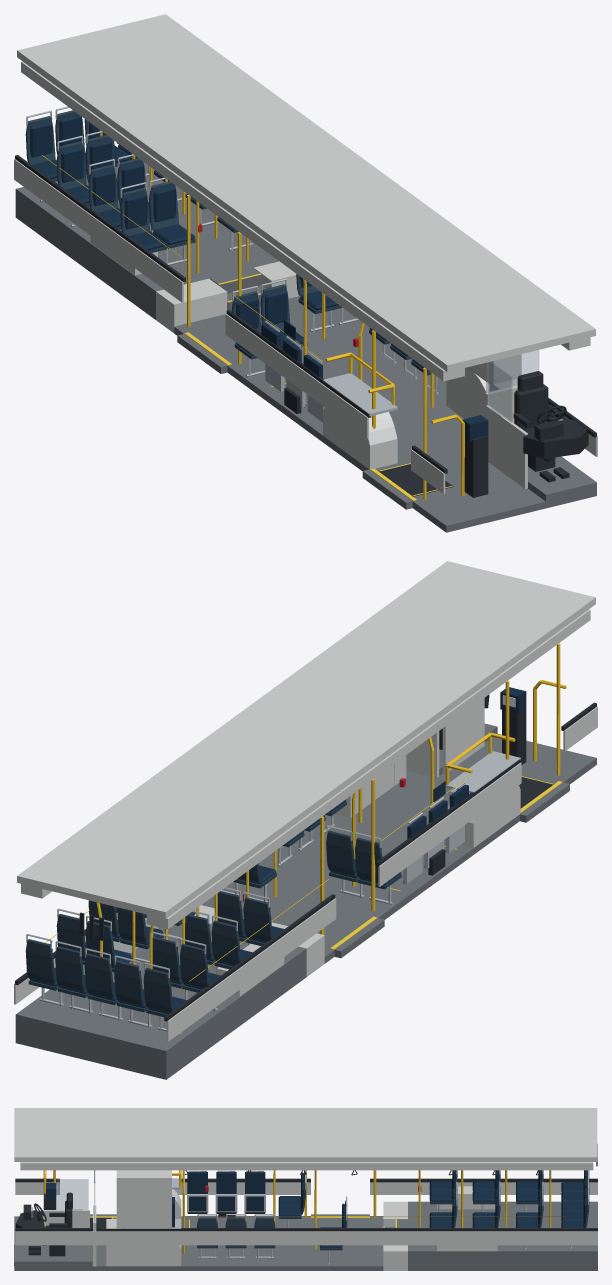
File: city-bus-12m-interior-v2-runtime.lod0.glb
3 views of the same model, one above another, from view 1: azimuth 30°, elevation 25°; view 2: azimuth 150°, elevation 25°; view 3: azimuth 270°, elevation 25° (orthographic). The views are drawn at different scales.
Parts seen in each view (by area): view 1: interior-batch-panel, interior-batch-floor, interior-batch-seat, interior-batch-rubber, interior-batch-seat-shell, interior-batch-rail, interior-batch-metal, interior-batch-glass; view 2: interior-batch-panel, interior-batch-floor, interior-batch-seat-shell, interior-batch-metal, interior-batch-rail, interior-batch-rubber, interior-batch-seat; view 3: interior-batch-panel, interior-batch-floor, interior-batch-seat, interior-batch-rubber, interior-batch-seat-shell, interior-batch-rail, interior-batch-metal, interior-batch-glass.
Part boxes in pixels (<box>): interior-batch-panel: <box>14,14,597,493</box>; interior-batch-floor: <box>15,162,596,532</box>; interior-batch-seat: <box>30,115,488,441</box>; interior-batch-rubber: <box>15,155,596,497</box>; interior-batch-seat-shell: <box>25,110,430,375</box>; interior-batch-rail: <box>42,130,464,499</box>; interior-batch-metal: <box>26,106,563,422</box>; interior-batch-glass: <box>486,350,538,422</box>; interior-batch-panel: <box>14,561,597,1041</box>; interior-batch-floor: <box>15,723,596,1079</box>; interior-batch-seat-shell: <box>25,801,401,1017</box>; interior-batch-metal: <box>26,751,520,1035</box>; interior-batch-rail: <box>45,643,566,989</box>; interior-batch-rubber: <box>15,694,596,1021</box>; interior-batch-seat: <box>30,687,526,1014</box>; interior-batch-panel: <box>14,1108,597,1270</box>; interior-batch-floor: <box>14,1201,597,1270</box>; interior-batch-seat: <box>46,1170,586,1247</box>; interior-batch-rubber: <box>15,1144,597,1256</box>; interior-batch-seat-shell: <box>197,1170,589,1250</box>; interior-batch-rail: <box>43,1170,564,1253</box>; interior-batch-metal: <box>72,1170,588,1265</box>; interior-batch-glass: <box>57,1179,94,1221</box>.
Bounding box in the file's own units: 2.43 × 2.44 × 11.39.
